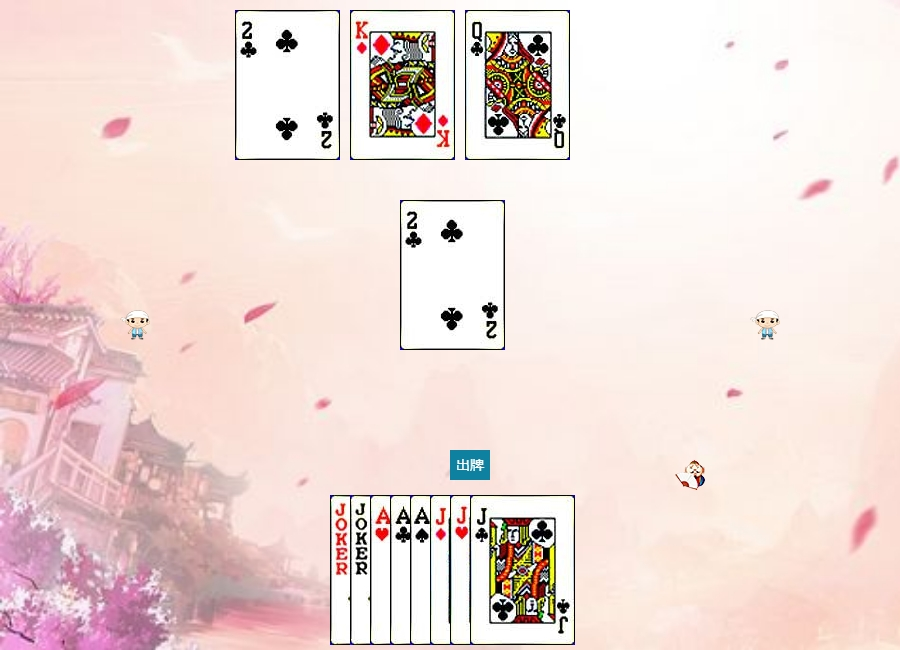11~1: (430, 495, 535, 645)
11~2: (470, 495, 575, 645)
11~3: (450, 495, 555, 645)
12~2: (465, 10, 570, 160)
13~1: (350, 10, 455, 160)
14~2: (390, 495, 495, 645)
14~3: (370, 495, 475, 645)
14~4: (410, 495, 515, 645)
15~2: (235, 10, 340, 160), (400, 200, 505, 350)
17~3: (350, 495, 455, 645)
18~4: (330, 495, 435, 645)
